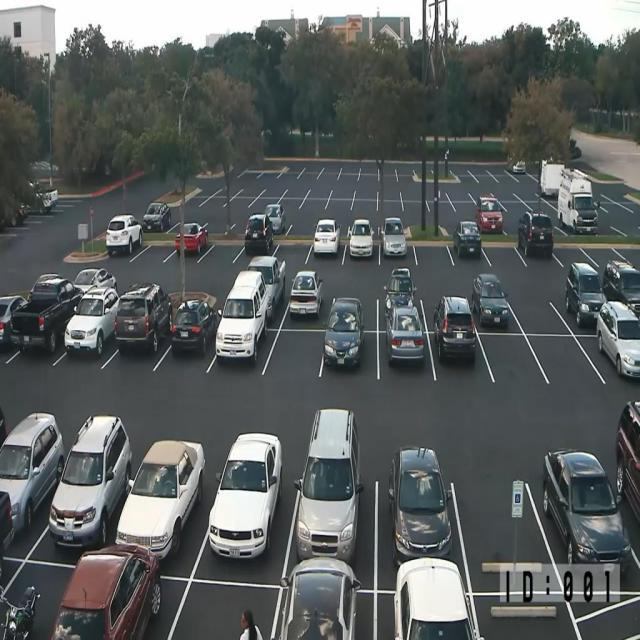car: (292, 448, 376, 584), (546, 452, 627, 577), (208, 449, 289, 574), (129, 444, 209, 565), (45, 434, 125, 552), (63, 558, 178, 640), (376, 461, 456, 578), (0, 412, 67, 533), (0, 560, 71, 640), (212, 324, 271, 390), (281, 256, 331, 330), (235, 256, 288, 325), (7, 312, 72, 368), (436, 332, 490, 394), (61, 318, 122, 371), (376, 332, 432, 389), (324, 328, 379, 386), (115, 323, 170, 378), (568, 272, 614, 334), (464, 282, 514, 336), (594, 328, 638, 389), (162, 330, 215, 380), (443, 222, 489, 277), (512, 221, 562, 271), (374, 276, 420, 327), (170, 224, 213, 270), (376, 224, 412, 270), (560, 200, 598, 240), (241, 228, 277, 268), (346, 227, 376, 270), (474, 194, 504, 236), (109, 228, 140, 266), (309, 230, 342, 262), (263, 204, 286, 236), (140, 208, 166, 226)
free: (450, 459, 556, 590), (536, 333, 596, 394), (486, 328, 540, 393), (266, 328, 326, 386), (511, 281, 564, 344), (419, 280, 470, 336), (328, 272, 378, 326), (477, 224, 525, 278), (411, 226, 452, 276), (133, 232, 175, 276), (548, 234, 593, 275), (588, 232, 625, 280), (204, 229, 242, 270), (528, 208, 558, 245), (502, 216, 528, 248), (278, 238, 309, 264), (229, 211, 260, 233), (518, 186, 544, 210), (381, 211, 411, 231), (491, 186, 517, 208), (193, 213, 221, 233), (401, 199, 430, 218), (350, 212, 380, 230), (166, 214, 196, 232), (453, 198, 479, 218), (288, 219, 314, 238), (526, 206, 554, 223), (320, 214, 348, 230), (216, 177, 242, 194), (444, 185, 470, 202), (468, 185, 493, 202), (354, 182, 379, 198), (493, 201, 521, 215), (253, 197, 280, 211), (283, 186, 309, 200), (304, 198, 330, 212), (351, 197, 377, 211), (378, 198, 404, 212), (403, 185, 424, 202), (240, 180, 262, 196), (316, 170, 338, 186), (493, 172, 515, 188), (204, 196, 233, 208), (309, 184, 332, 199), (380, 184, 400, 201), (330, 184, 354, 198), (428, 200, 452, 214), (328, 199, 351, 213), (228, 196, 254, 208), (180, 196, 202, 210), (278, 197, 300, 211), (424, 186, 446, 200), (356, 176, 378, 190), (468, 164, 488, 179), (264, 184, 285, 198), (295, 172, 319, 184), (317, 162, 341, 174), (357, 165, 379, 178), (394, 163, 416, 176), (196, 180, 216, 194), (340, 162, 360, 176), (396, 172, 416, 186), (448, 164, 466, 179), (376, 163, 396, 176), (297, 164, 321, 174), (337, 172, 357, 184), (378, 172, 398, 184), (491, 166, 508, 180), (278, 170, 300, 180), (279, 162, 299, 172), (456, 172, 476, 182), (474, 174, 494, 184), (516, 172, 532, 184), (258, 170, 280, 178)
